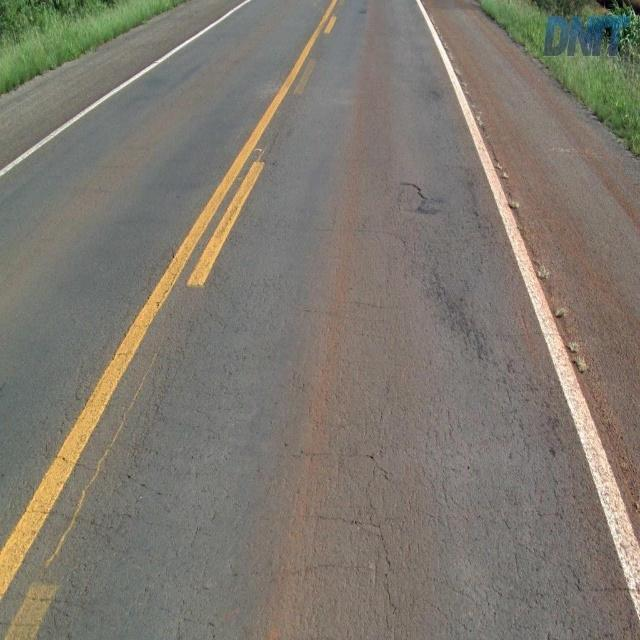pothole: (394, 179, 432, 220)
